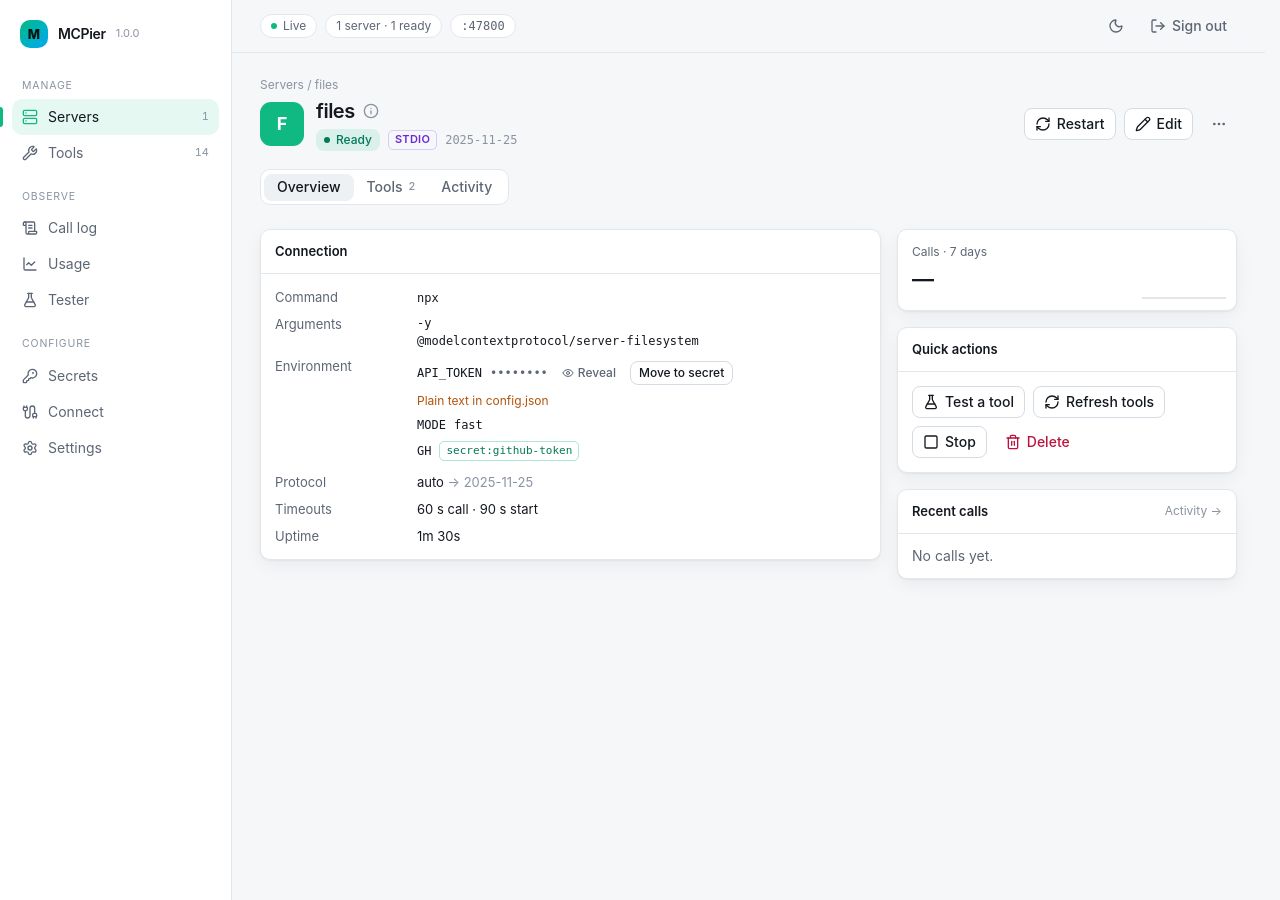
Test: Server detail: overview › masks credential-looking plain values, with reveal; references stay references
The image size is (1280, 900).
expect the text named "API_TOKEN is hidden" is shown: met, box [490, 365, 548, 381]
expect the text "plain-token-value-4444-abcd" is not shown: met
Click the button with aria-label "Reveal API_TOKEN".
click(589, 373)  # box [556, 361, 622, 385]
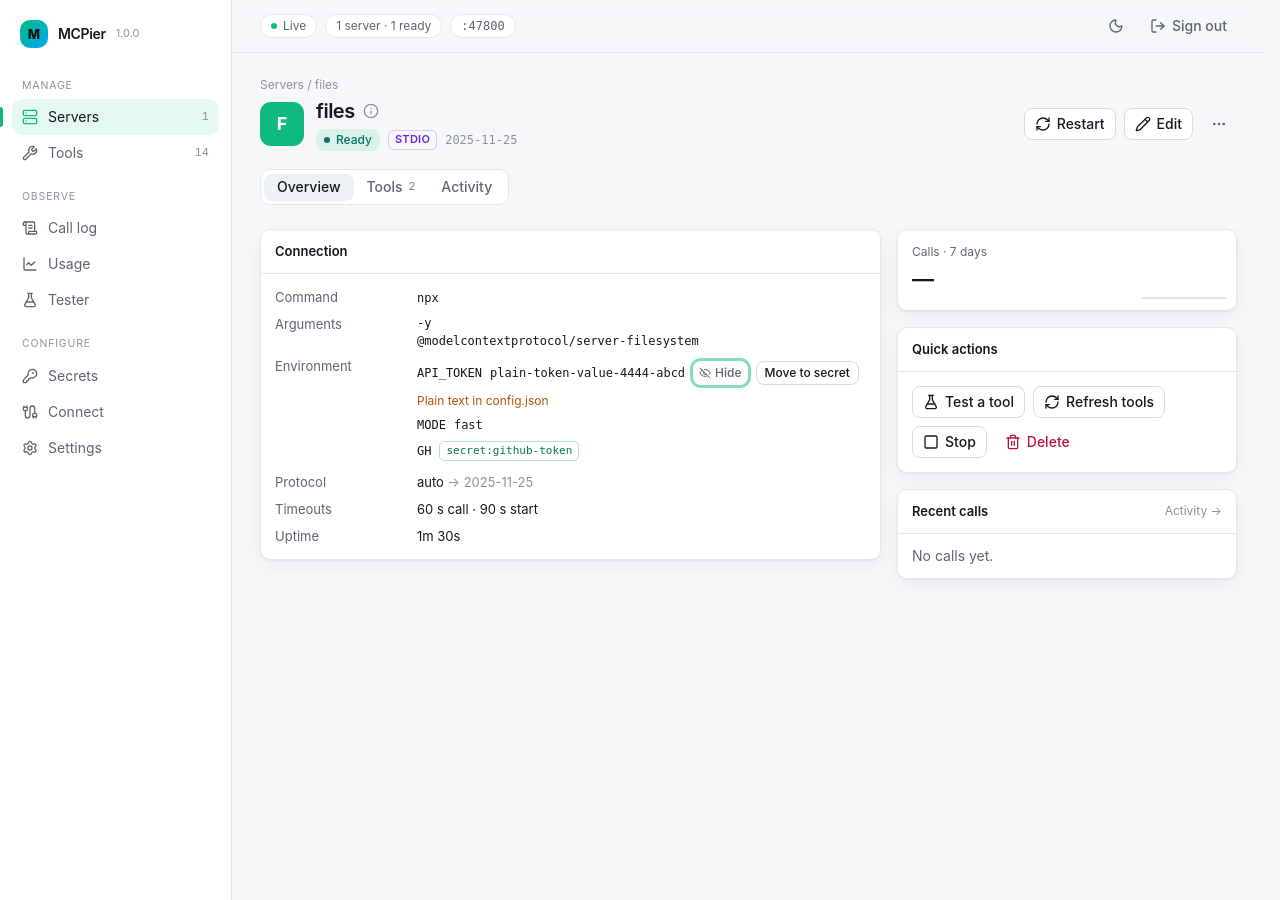
expect the text "plain-token-value-4444-abcd" is shown: met, box [490, 365, 685, 381]
Click the button with aria-label "Hide API_TOKEN".
click(720, 373)  # box [693, 361, 748, 385]
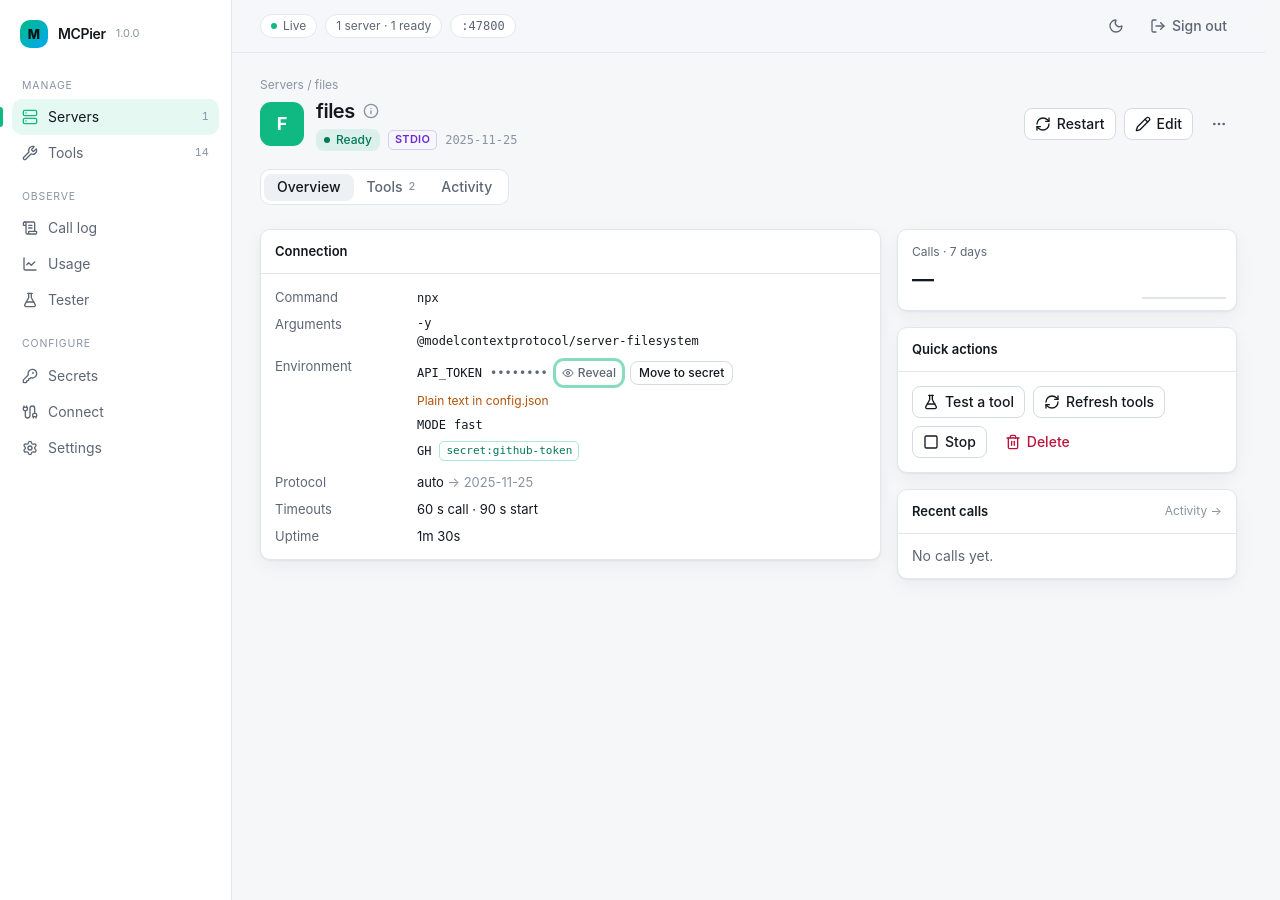
expect the number of buttons "Move to secret" is 1: met, box [630, 361, 733, 385]
expect the text "plain-token-value-4444-abcd" is gone: met
